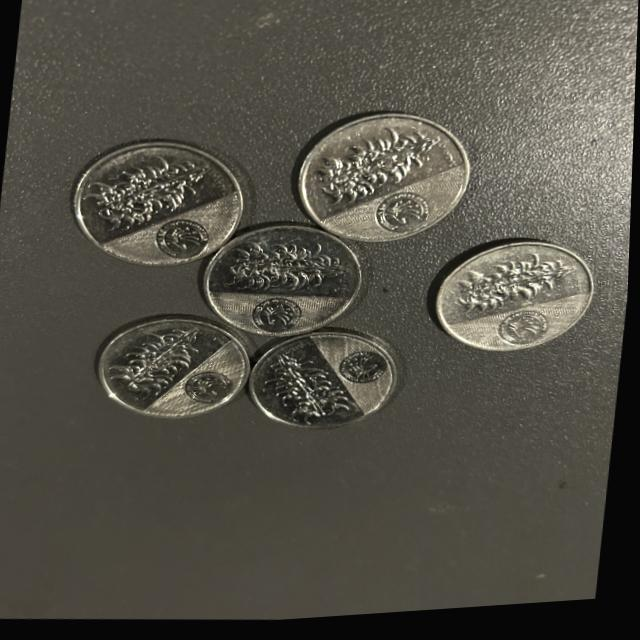5_New_Back: (315, 121, 449, 220), (86, 145, 220, 237), (447, 238, 577, 331), (215, 226, 363, 307), (260, 351, 363, 434)
